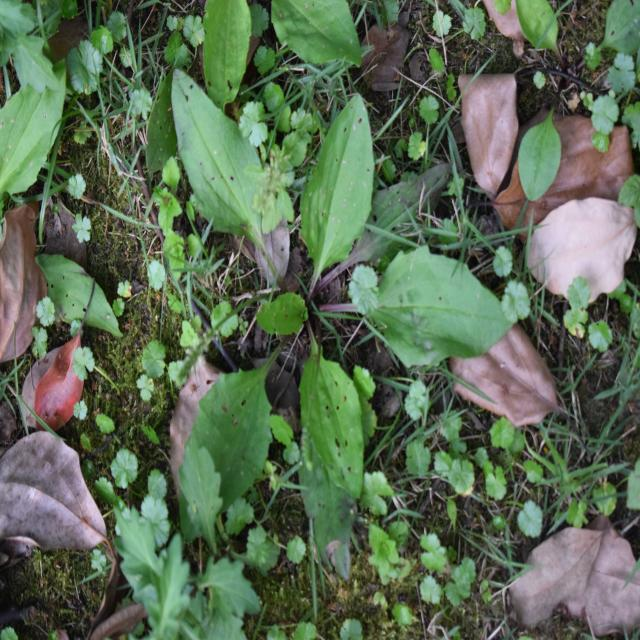plantain: (184, 105, 502, 510)
